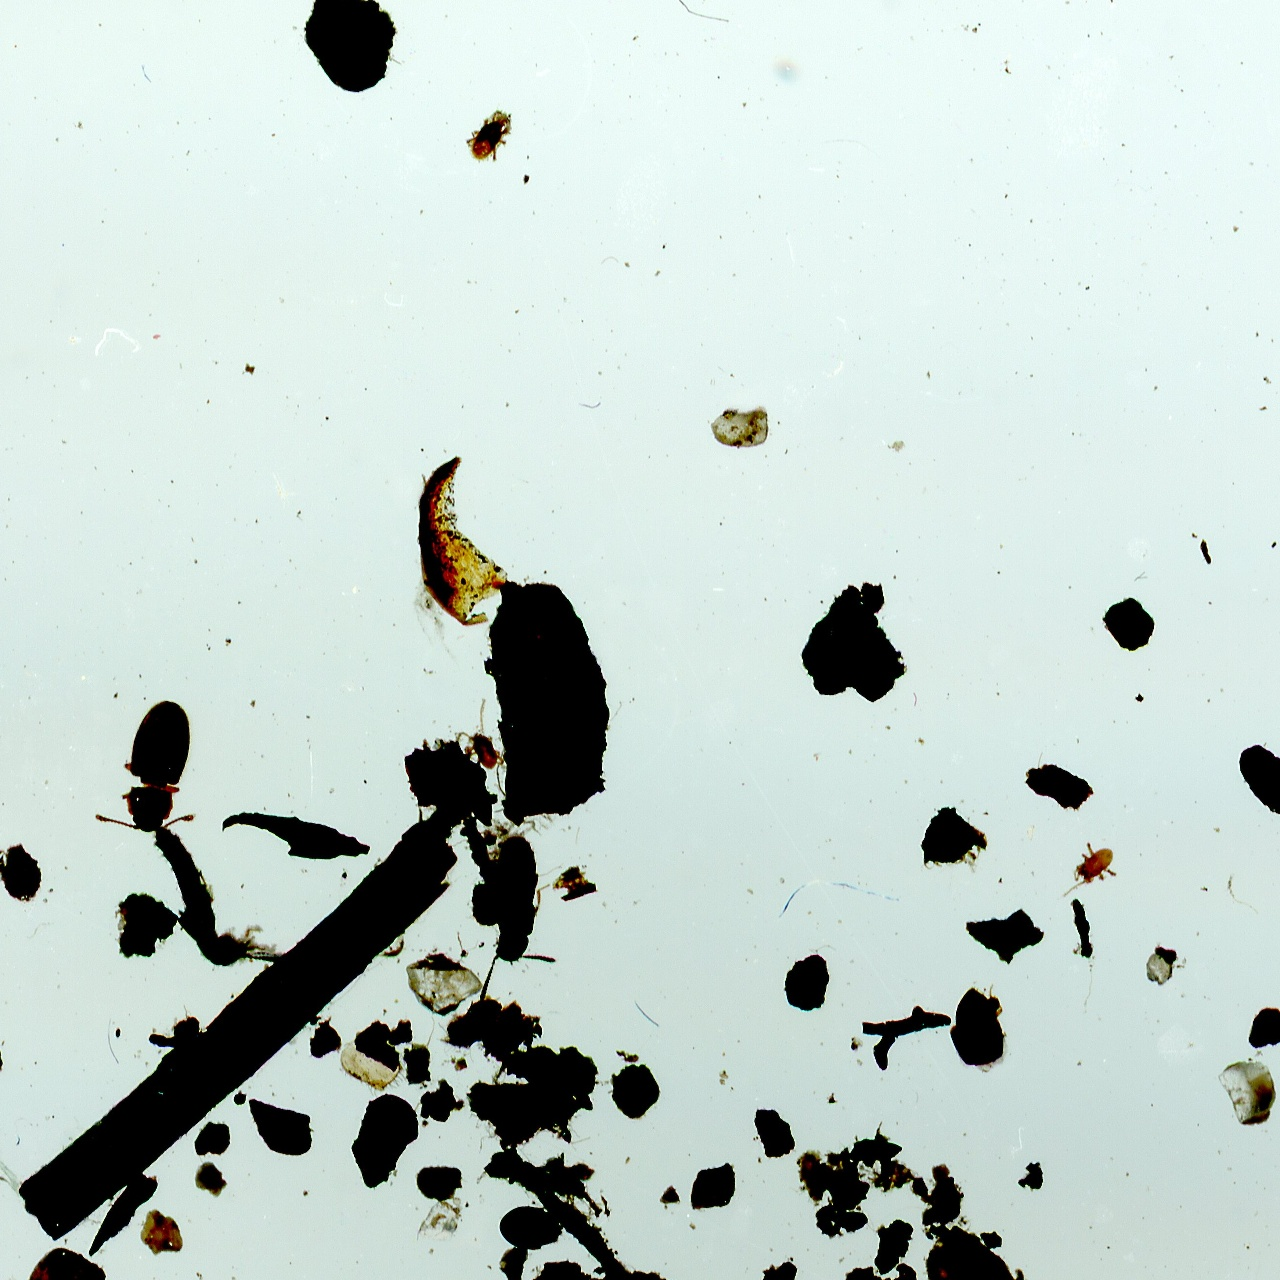arthropod: (123, 804, 277, 990), (91, 696, 198, 839), (477, 831, 559, 1008), (452, 94, 529, 177), (452, 696, 506, 772), (1057, 839, 1119, 898)
